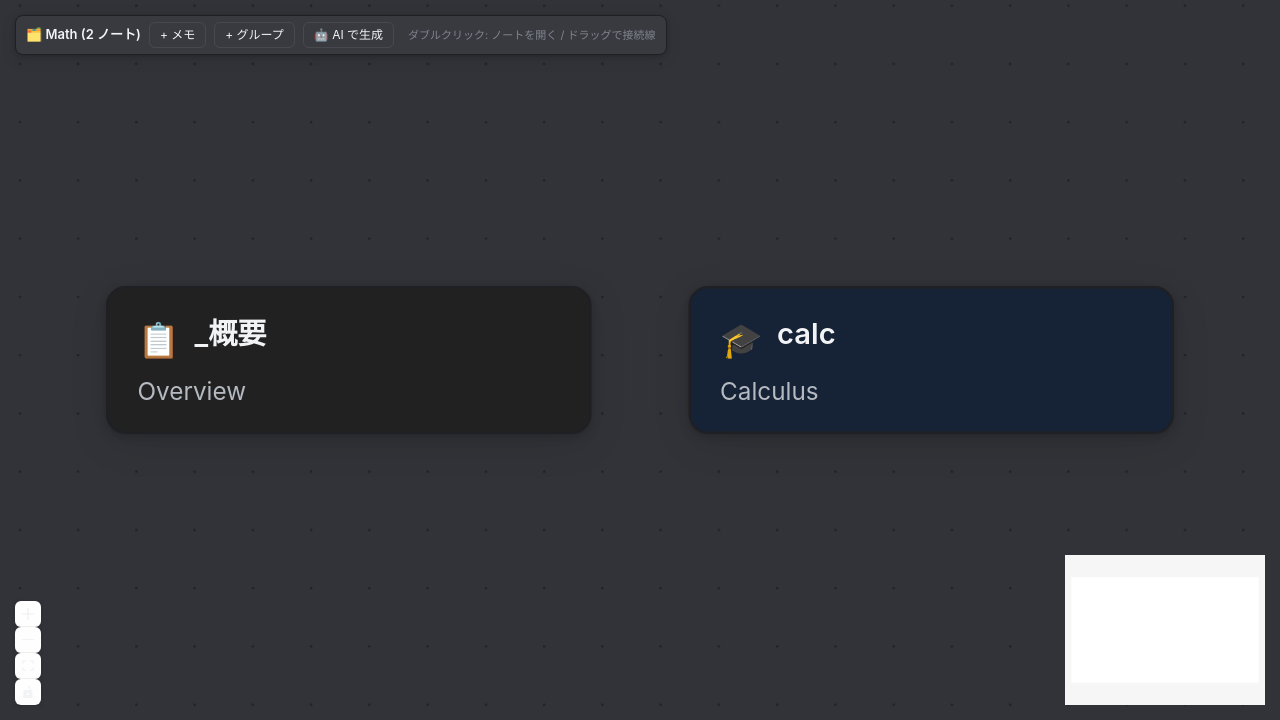
it: CanvasView actions › adds memo node on button click
Click the button "+ メモ". click: (178, 35)
box: x1=149 y1=22 x2=206 y2=48
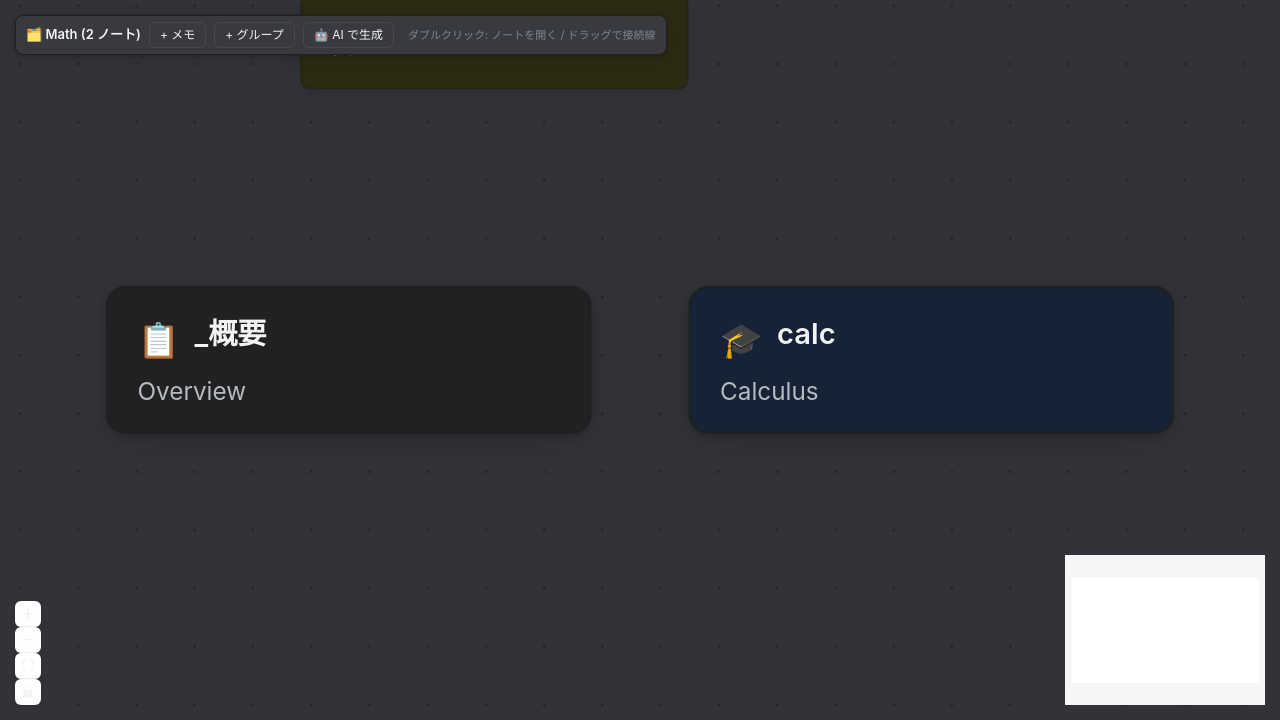
Expected: the text "新しいメモ" is shown, x1=327 y1=24 x2=473 y2=60
